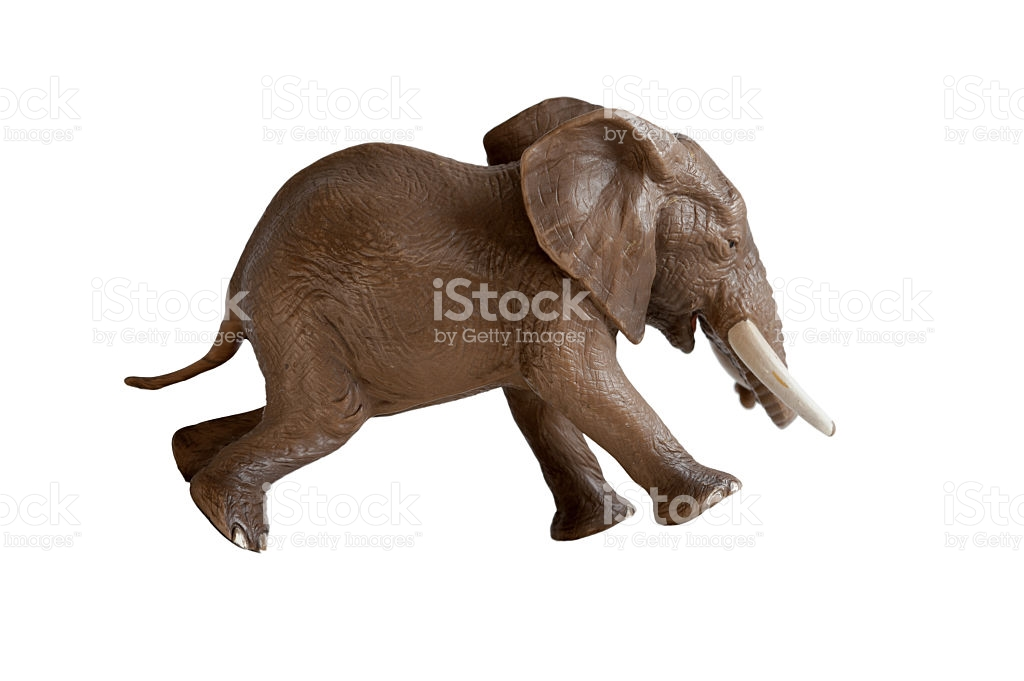elephant: (121, 91, 851, 554)
